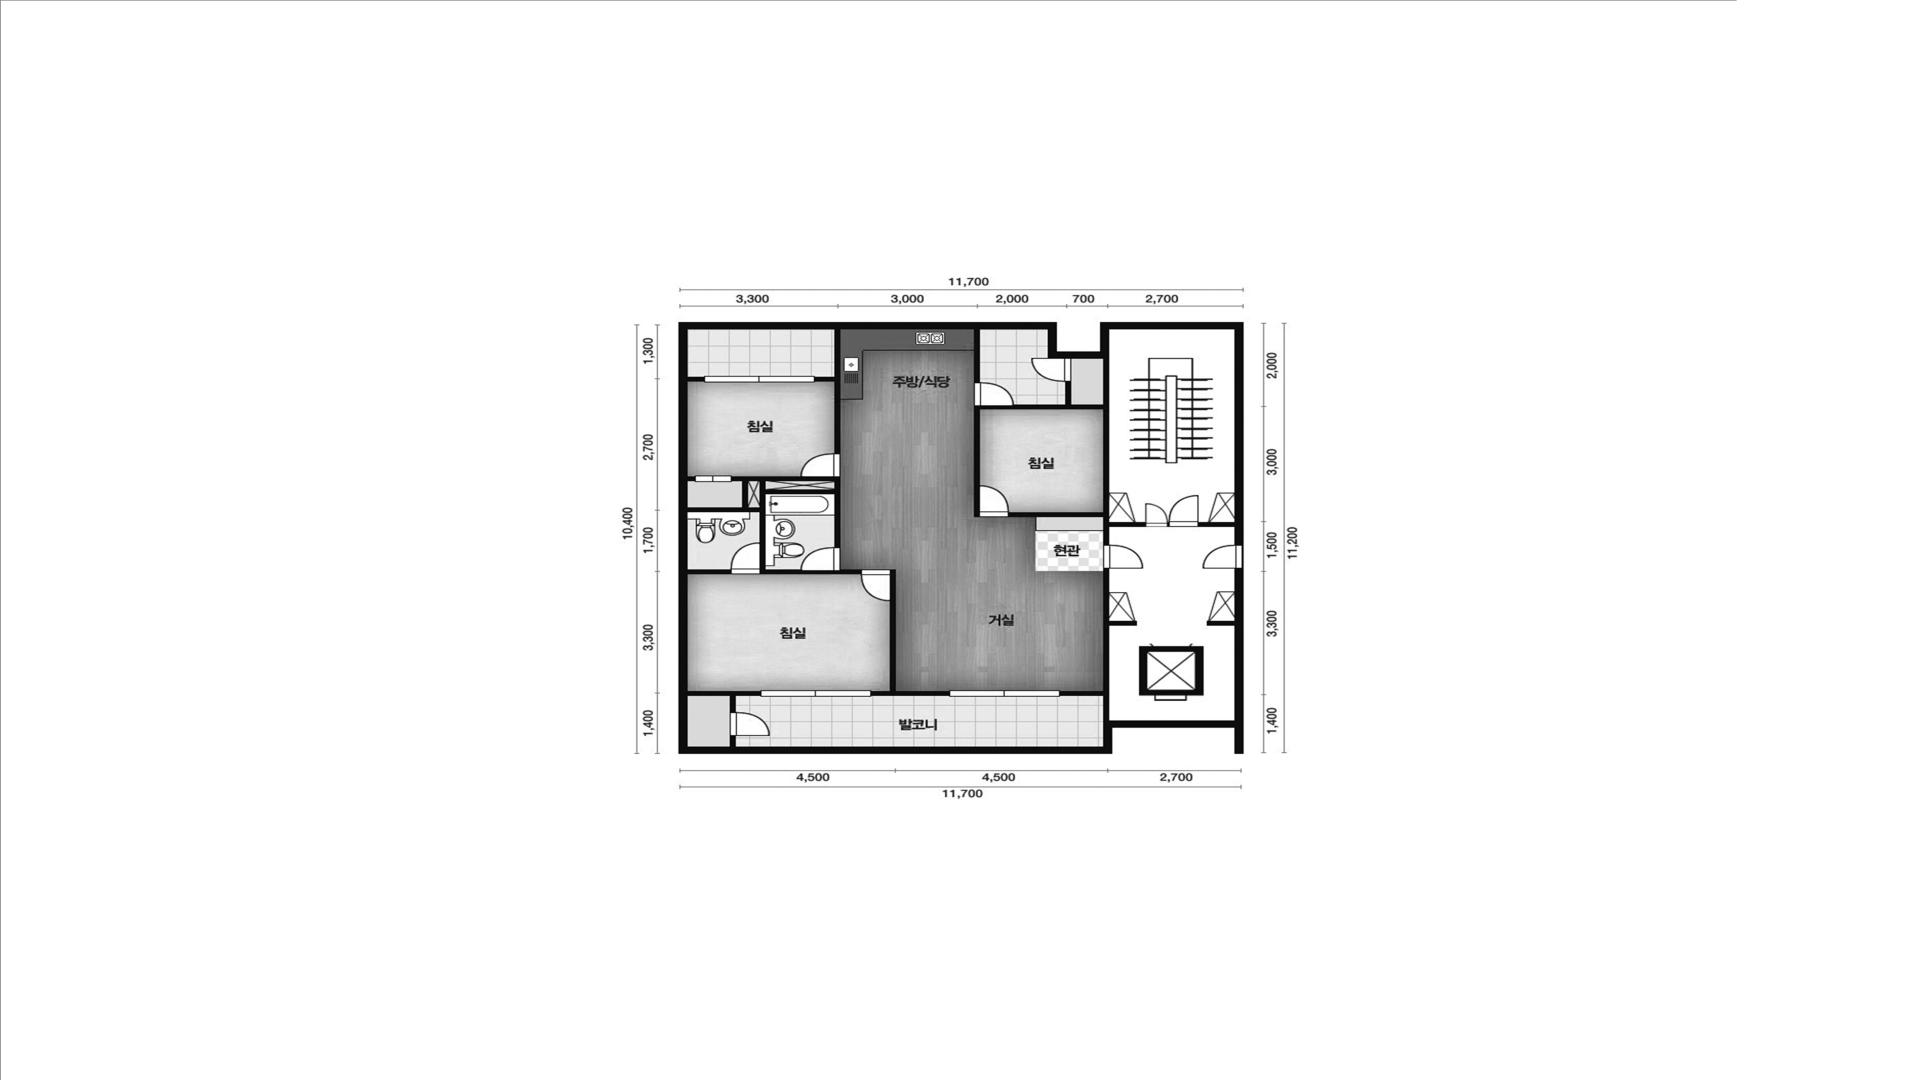door: (1145, 495, 1199, 527), (729, 712, 770, 736), (1203, 545, 1244, 568), (1102, 545, 1143, 568), (731, 542, 760, 575), (980, 485, 1009, 517), (861, 570, 890, 601), (800, 547, 841, 570), (1031, 359, 1072, 381), (973, 382, 1014, 405), (800, 454, 840, 476), (695, 476, 732, 481)
wall: (678, 322, 1244, 754), (973, 381, 1104, 517), (731, 476, 861, 574), (870, 570, 949, 696), (814, 330, 840, 454), (687, 481, 760, 512), (687, 691, 761, 712), (1009, 512, 1104, 517), (765, 489, 835, 495), (973, 330, 980, 382), (1059, 691, 1104, 696), (687, 570, 731, 574), (1109, 522, 1146, 526), (1199, 522, 1234, 526), (1207, 621, 1234, 625), (1109, 621, 1137, 625), (729, 736, 736, 746), (687, 377, 704, 381), (687, 476, 695, 481)
window: (704, 376, 815, 382), (761, 690, 870, 696), (949, 691, 1060, 696)
